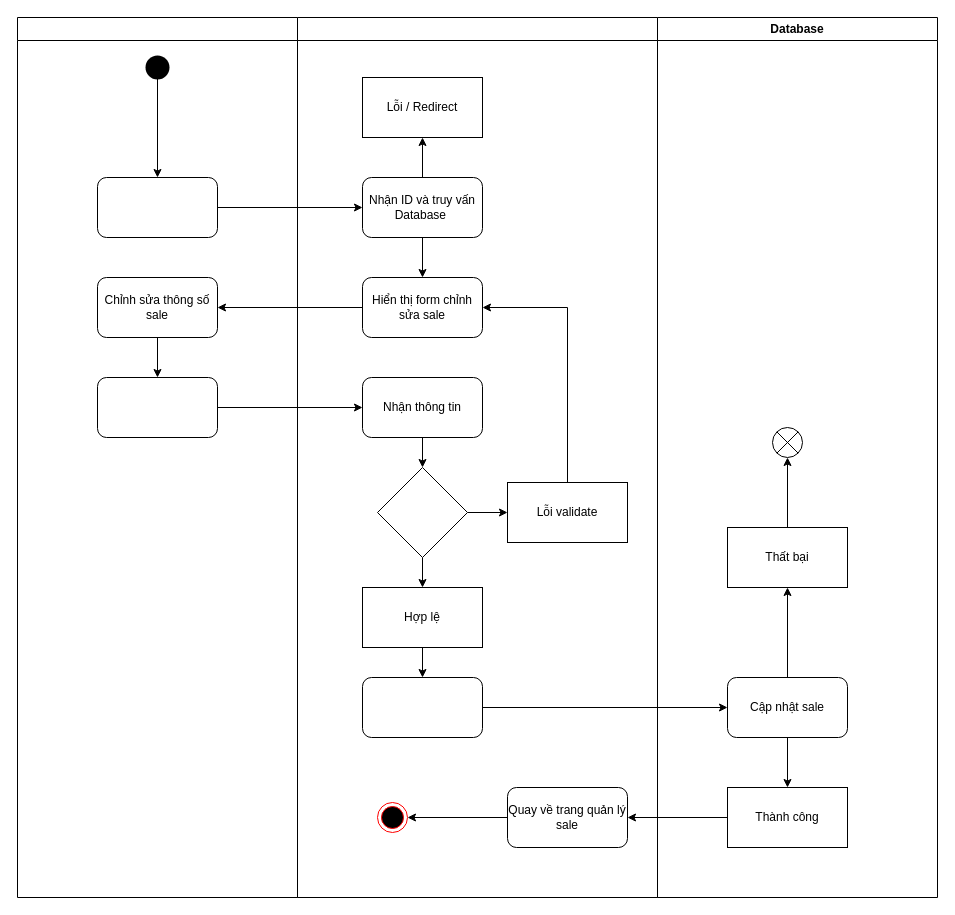
Some shapes in this 955 by 915 pixel diagram are drawn without their labels. The shapes that lost their labels are listed below. From the top down, each one's box as (x1, y1, x2, y2) in pixels, then its label:
(96, 176, 218, 238): Nhấn nút "Sửa sale"
(96, 376, 218, 438): Nhấn "Lưu / Cập nhât"
(16, 16, 298, 898): Admin
(296, 16, 658, 898): System
(376, 466, 468, 558): Validate dữ liệu
(362, 676, 482, 738): Xử lý cập nhật giá
